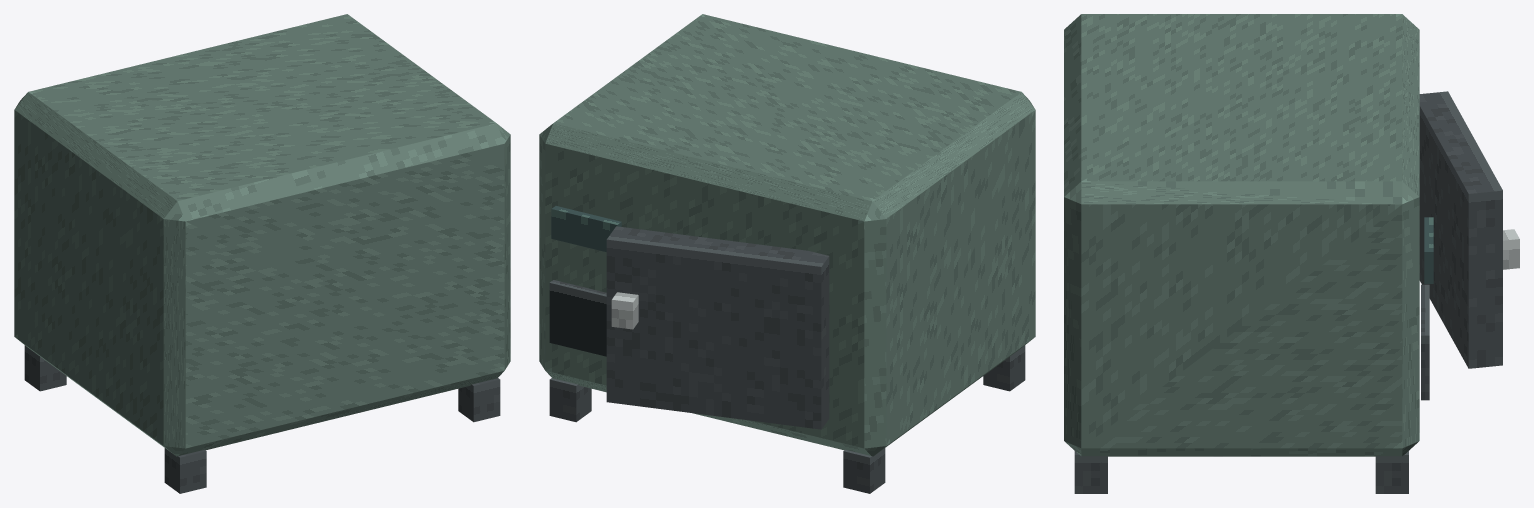
Rendered from f_steel_kiln.glb.
3 renders of one model, left to right at view 1: azimuth 30°, elevation 25°; view 2: azimuth 150°, elevation 25°; view 3: azimuth 270°, elevation 25°, orthographic. The views are drawn at different scales.
Parts seen in each view (by area): view 1: block_insulated-heating-chamber, block_leg--0.40199999999999997-0.332, block_leg-0.40199999999999997-0.332, block_leg--0.40199999999999997--0.332; view 2: block_insulated-heating-chamber, block_heating-chamber-door, block_thermal-slotted-intake, block_heat-controller, block_leg--0.40199999999999997--0.332, block_leg-0.40199999999999997--0.332, block_leg--0.40199999999999997-0.332, block_door-draw-latch; view 3: block_insulated-heating-chamber, block_heating-chamber-door, block_leg-0.40199999999999997-0.332, block_leg-0.40199999999999997--0.332, block_thermal-slotted-intake, block_heat-controller, block_door-draw-latch.
Part boxes in pixels (x1,y1,x2,y2): block_insulated-heating-chamber: [14, 14, 510, 456]; block_leg--0.40199999999999997-0.332: [164, 448, 206, 493]; block_leg-0.40199999999999997-0.332: [458, 378, 500, 422]; block_leg--0.40199999999999997--0.332: [24, 345, 66, 391]; block_insulated-heating-chamber: [539, 14, 1035, 456]; block_heating-chamber-door: [606, 226, 829, 429]; block_thermal-slotted-intake: [549, 280, 606, 356]; block_heat-controller: [551, 206, 621, 251]; block_leg--0.40199999999999997--0.332: [843, 448, 885, 493]; block_leg-0.40199999999999997--0.332: [549, 378, 591, 422]; block_leg--0.40199999999999997-0.332: [983, 345, 1025, 391]; block_door-draw-latch: [611, 292, 638, 329]; block_insulated-heating-chamber: [1064, 14, 1419, 456]; block_heating-chamber-door: [1419, 91, 1502, 368]; block_leg-0.40199999999999997-0.332: [1074, 451, 1107, 493]; block_leg-0.40199999999999997--0.332: [1375, 451, 1408, 493]; block_thermal-slotted-intake: [1421, 284, 1429, 400]; block_heat-controller: [1424, 217, 1433, 283]; block_door-draw-latch: [1503, 229, 1519, 269].
Size of the model in its own units: 0.95 by 0.76 by 1.01.
1 material, 1 textured.
